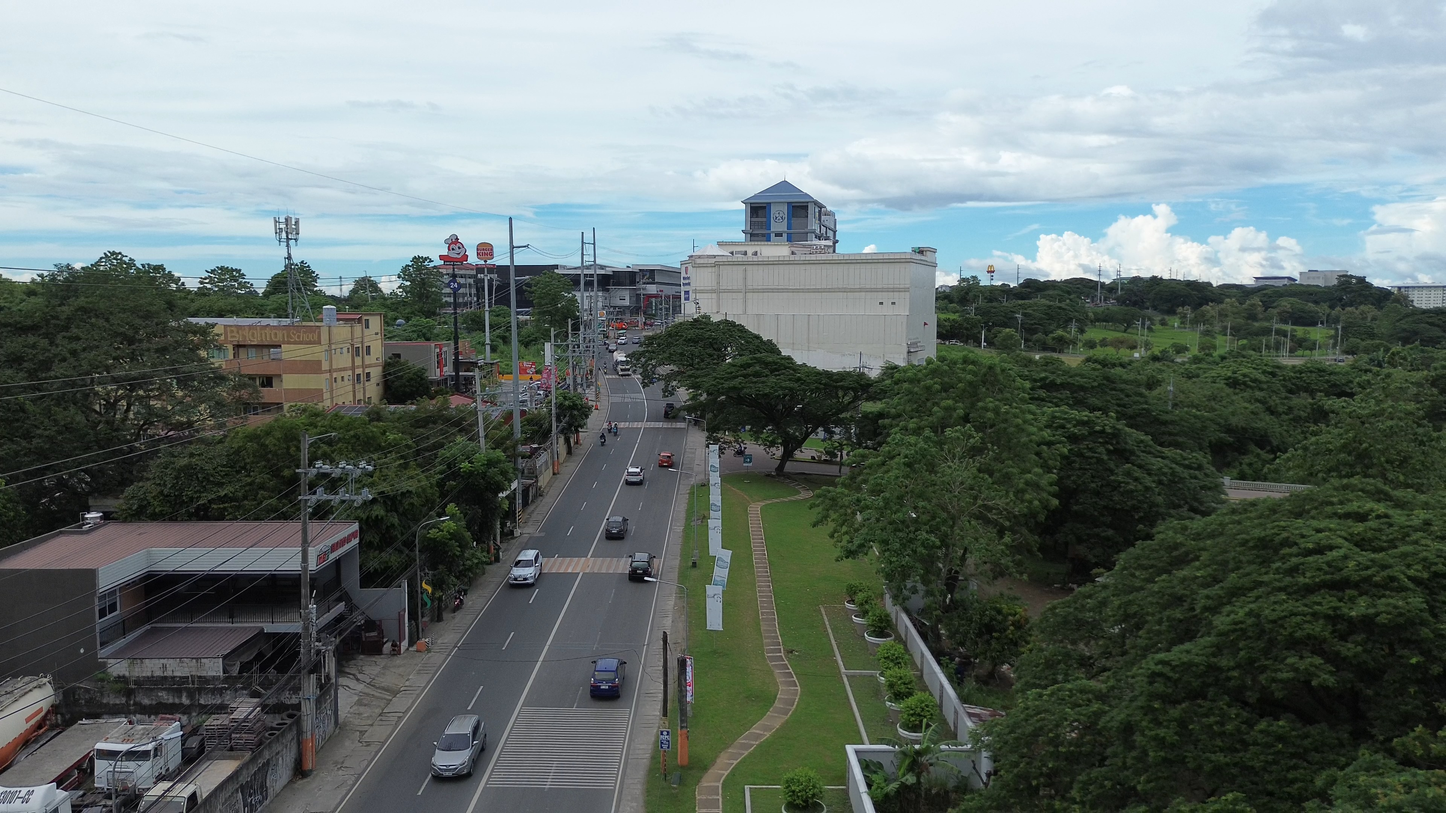car: (431, 714, 485, 776), (589, 658, 626, 697), (508, 549, 542, 585), (627, 552, 656, 580), (657, 452, 673, 468), (631, 336, 643, 344)
motorcycle: (600, 432, 606, 445)
vehicle: (95, 715, 183, 792), (0, 676, 55, 769), (0, 783, 71, 813), (140, 781, 201, 813), (604, 515, 628, 539), (624, 467, 644, 485), (615, 353, 631, 375), (663, 402, 676, 419), (607, 342, 618, 352)
